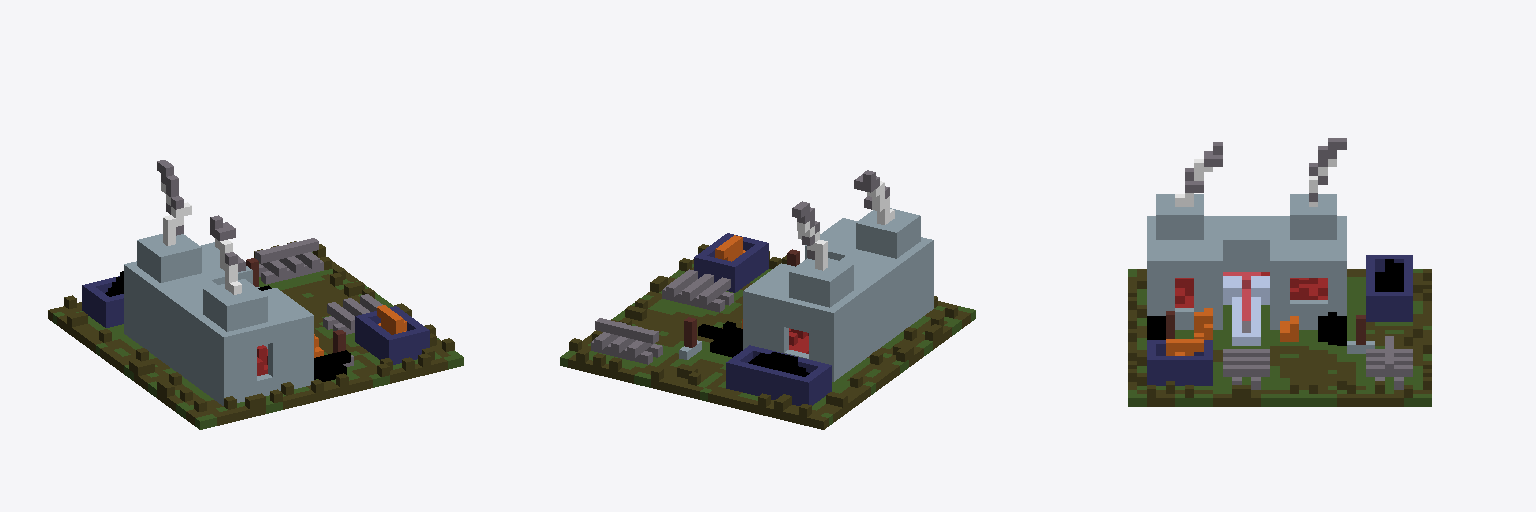
3 renders of one model, left to right at view 1: azimuth 30°, elevation 25°; view 2: azimuth 150°, elevation 25°; view 3: azimuth 270°, elevation 25°, orthographic.
Visible parts, largest first — view 1: object 1; view 2: object 1; view 3: object 1.
Boxes of the visible parts, <box> form: object 1: <box>48,160,463,429</box>; object 1: <box>560,170,975,429</box>; object 1: <box>1128,138,1431,406</box>.
Bounding box in the file's own units: 3.2 × 2 × 3.2.
1 materials, 1 textured.